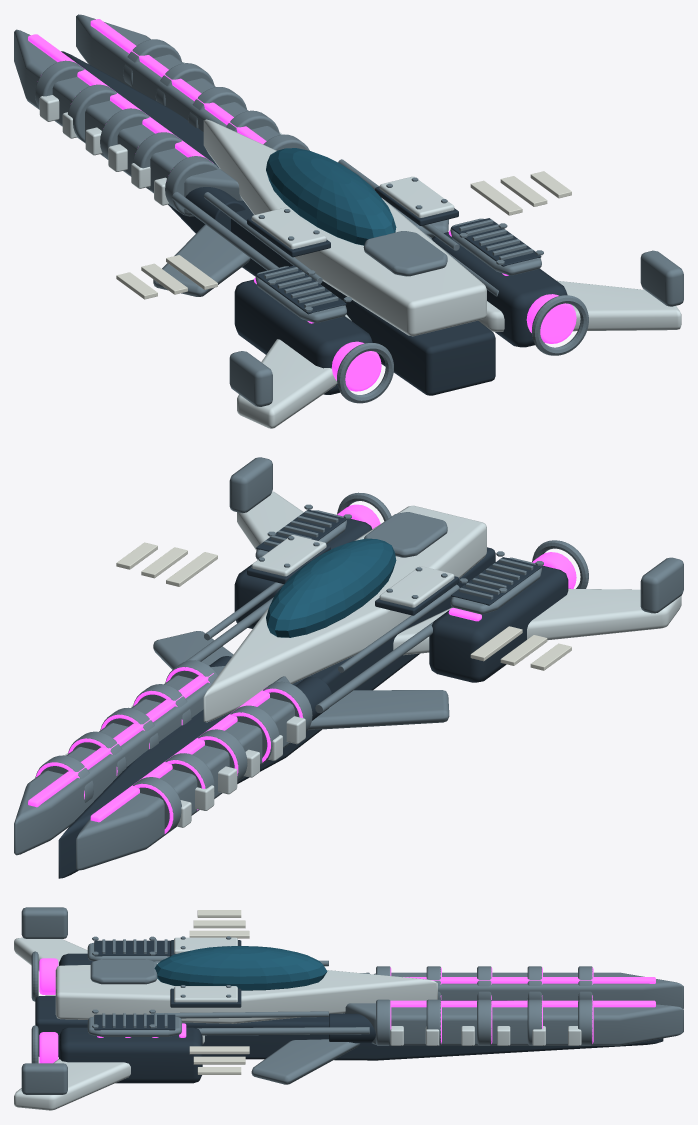
The model's file is Needle.fbx.
The picture shows the model from 3 angles, top to bottom: view 1: azimuth 30°, elevation 25°; view 2: azimuth 150°, elevation 25°; view 3: azimuth 270°, elevation 25°; orthographic projection. The views are drawn at different scales.
Parts seen in each view (by area): view 1: White dorsal shell.003, Needle central spar.003, Navigator canopy.003, Forward electromagnetic rail.006, Superconductor engine.006, Forward electromagnetic rail.007, Backward stabilizer.007, Backward stabilizer.006, Superconductor engine.007, Minimal forward canard.006, Inset service armor.226, Wingtip transceiver.006 (+31 smaller); view 2: White dorsal shell.003, Navigator canopy.003, Forward electromagnetic rail.006, Forward electromagnetic rail.007, Needle central spar.003, Superconductor engine.006, Backward stabilizer.006, Minimal forward canard.006, Inset service armor.226, Purple rail conductor.007, Backward stabilizer.007, Wingtip transceiver.007 (+30 smaller); view 3: White dorsal shell.003, Forward electromagnetic rail.007, Needle central spar.003, Navigator canopy.003, Superconductor engine.007, Forward electromagnetic rail.006, Minimal forward canard.007, Backward stabilizer.007, Inset service armor.226, Purple rail conductor.007, Wingtip transceiver.007, Wingtip transceiver.006 (+30 smaller).
Boxes of the visible parts, <box> form: White dorsal shell.003: <box>203,119,486,336</box>; Needle central spar.003: <box>61,51,495,395</box>; Navigator canopy.003: <box>266,148,396,245</box>; Forward electromagnetic rail.006: <box>14,29,242,215</box>; Superconductor engine.006: <box>234,279,372,394</box>; Forward electromagnetic rail.007: <box>76,14,280,140</box>; Backward stabilizer.007: <box>478,280,681,331</box>; Backward stabilizer.006: <box>237,314,351,428</box>; Superconductor engine.007: <box>431,232,567,347</box>; Minimal forward canard.006: <box>153,224,250,296</box>; Inset service armor.226: <box>363,231,447,276</box>; Wingtip transceiver.006: <box>229,351,272,406</box>; White dorsal shell.003: <box>203,505,486,722</box>; Navigator canopy.003: <box>266,538,396,637</box>; Forward electromagnetic rail.006: <box>76,676,294,870</box>; Forward electromagnetic rail.007: <box>14,666,224,855</box>; Needle central spar.003: <box>58,547,495,878</box>; Superconductor engine.006: <box>429,565,568,682</box>; Backward stabilizer.006: <box>393,588,681,655</box>; Minimal forward canard.006: <box>308,690,449,730</box>; Inset service armor.226: <box>364,512,447,557</box>; Purple rail conductor.007: <box>28,673,213,807</box>; Backward stabilizer.007: <box>237,491,303,550</box>; Wingtip transceiver.007: <box>229,457,272,513</box>; White dorsal shell.003: <box>55,963,437,1023</box>; Forward electromagnetic rail.007: <box>344,1003,683,1045</box>; Needle central spar.003: <box>35,995,663,1060</box>; Navigator canopy.003: <box>154,946,327,990</box>; Superconductor engine.007: <box>59,1027,202,1083</box>; Forward electromagnetic rail.006: <box>374,972,683,1008</box>; Minimal forward canard.007: <box>251,1039,360,1084</box>; Backward stabilizer.007: <box>14,1035,204,1110</box>; Inset service armor.226: <box>90,959,157,984</box>; Purple rail conductor.007: <box>391,1000,655,1007</box>; Wingtip transceiver.007: <box>21,1063,67,1094</box>; Wingtip transceiver.006: <box>21,907,67,938</box>.
Bounding box in the file's own units: 282 × 78 × 491.
